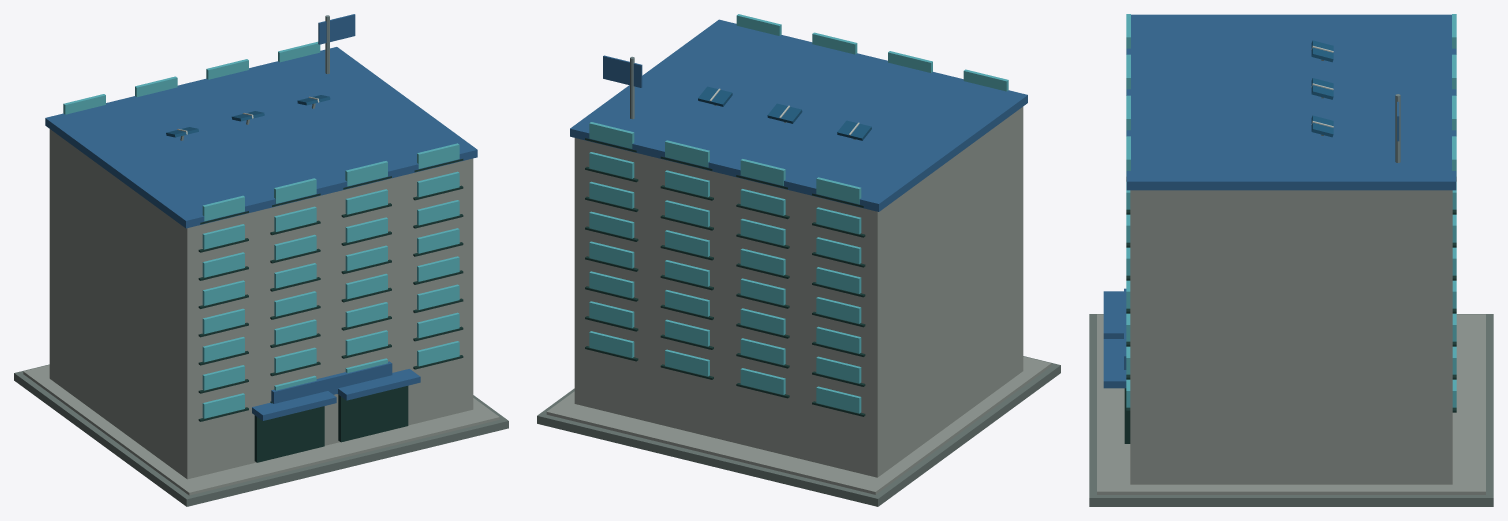
The model's file is police_lv4.glb.
3 renders of one model, left to right at view 1: azimuth 30°, elevation 25°; view 2: azimuth 150°, elevation 25°; view 3: azimuth 270°, elevation 25°, orthographic. The views are drawn at different scales.
Visible parts, largest first — view 1: rough, glossy, metallic; view 2: rough, glossy, metallic; view 3: rough, glossy, metallic.
Part boxes in pixels (box(x1,y1,x2,y2)): rough: box(14, 14, 508, 506); glossy: box(63, 41, 459, 418); metallic: box(166, 15, 330, 140); rough: box(537, 19, 1060, 506); glossy: box(589, 14, 1008, 413); metallic: box(630, 56, 871, 140); rough: box(1089, 14, 1493, 506); glossy: box(1126, 14, 1456, 407); metallic: box(1311, 40, 1400, 162).
Size of the model in its own units: 9.8 by 9.53 by 9.1.
